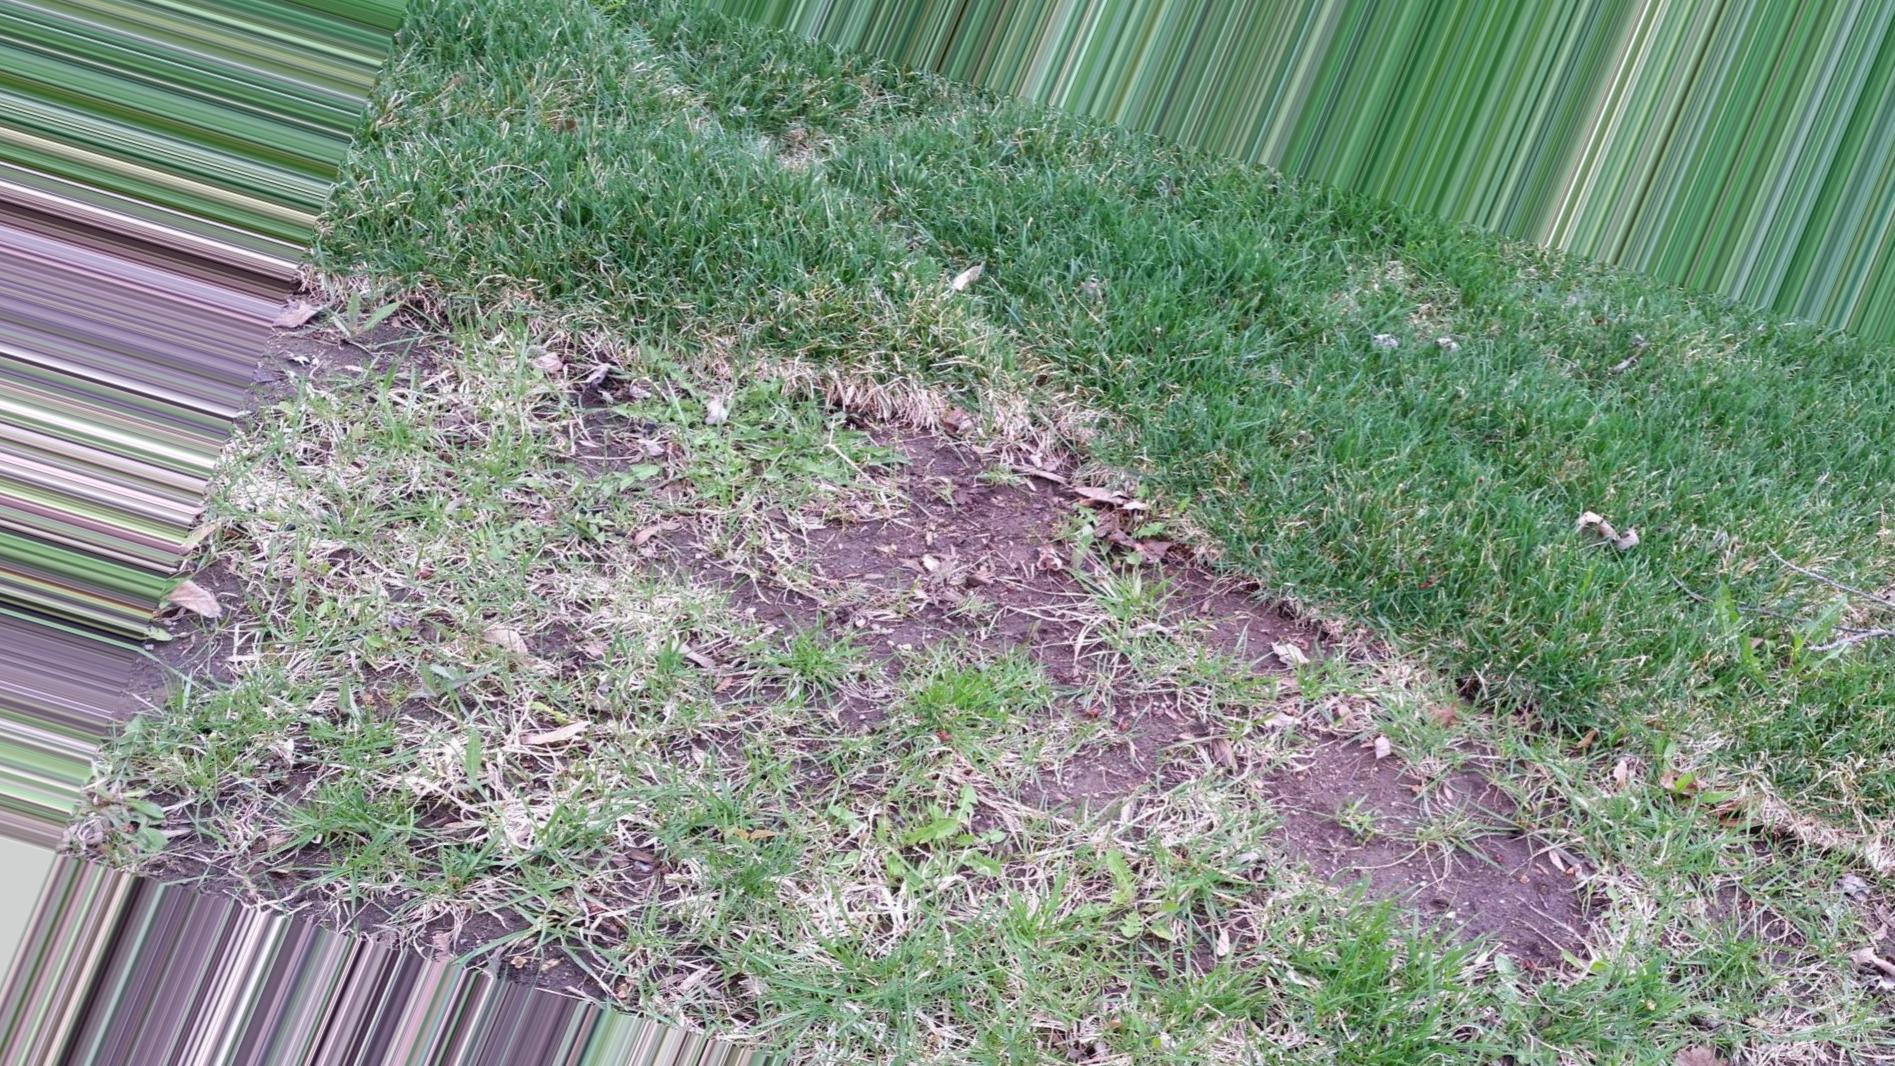patch: (925, 482, 1447, 875), (819, 508, 886, 604), (307, 332, 400, 375), (688, 543, 761, 590)
